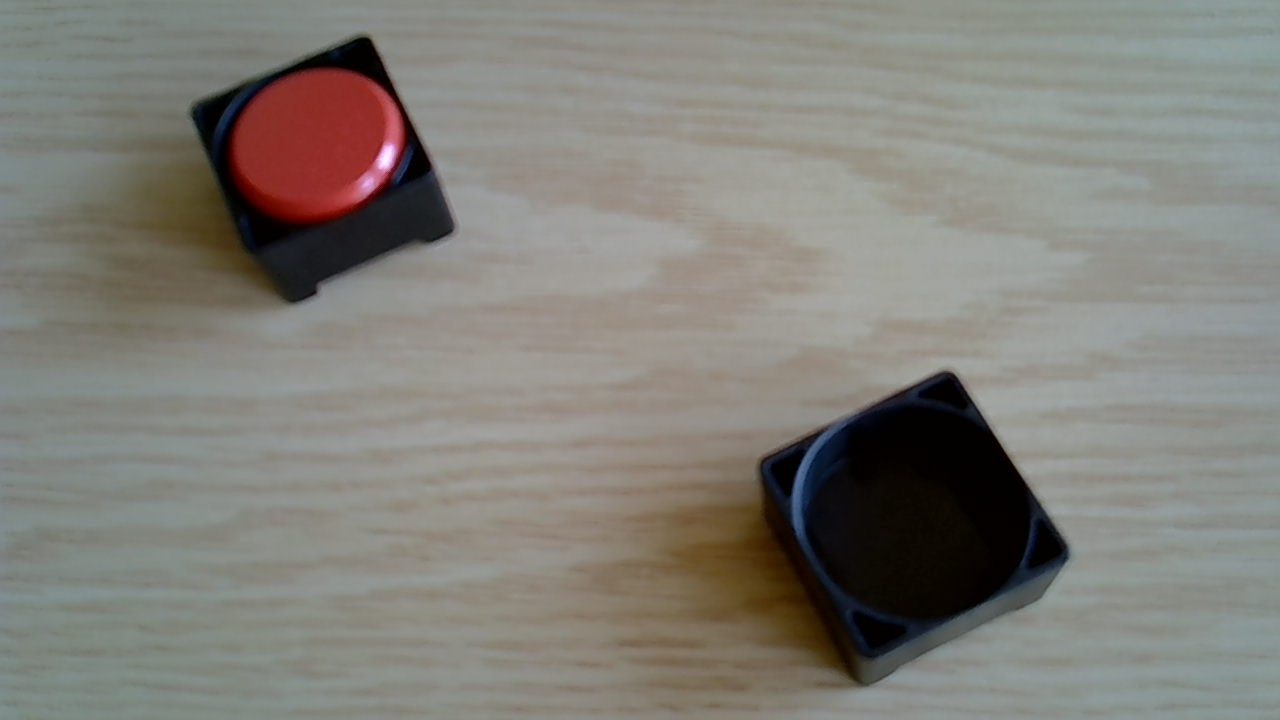Behaelter: (757, 374, 1069, 687), (186, 35, 457, 304)
WerkStueck: (233, 71, 398, 220)
